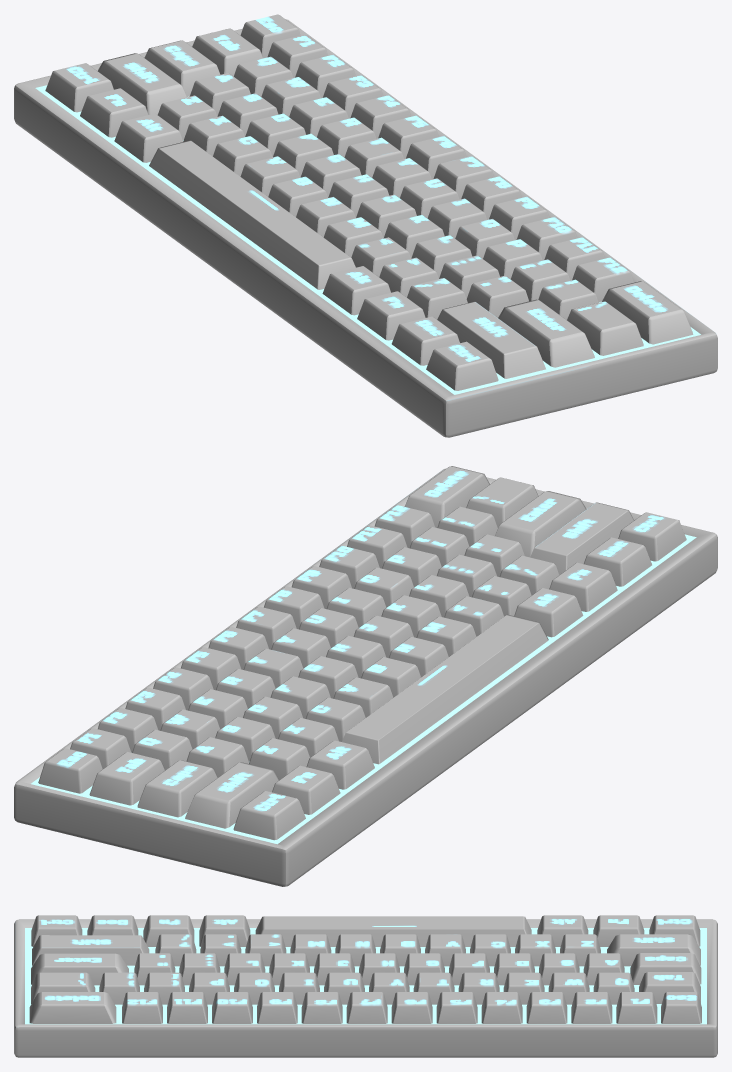
Rendered from SM_KeyboardAS.fbx.
The picture shows the model from 3 angles, top to bottom: view 1: azimuth 30°, elevation 25°; view 2: azimuth 150°, elevation 25°; view 3: azimuth 270°, elevation 25°; orthographic projection. The views are drawn at different scales.
Parts seen in each view (by area): view 1: SM_KeyboardAS_LOD0; view 2: SM_KeyboardAS_LOD0; view 3: SM_KeyboardAS_LOD0.
Boxes of the visible parts, box(x1,y1,x2,y2) form: SM_KeyboardAS_LOD0: box(14, 14, 717, 437); SM_KeyboardAS_LOD0: box(14, 466, 717, 886); SM_KeyboardAS_LOD0: box(14, 915, 717, 1057).
Bounding box in the file's own units: 15.77 × 43.11 × 3.15.
